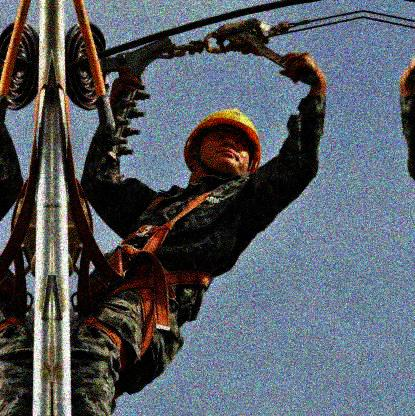helmet: (182, 106, 259, 174)
